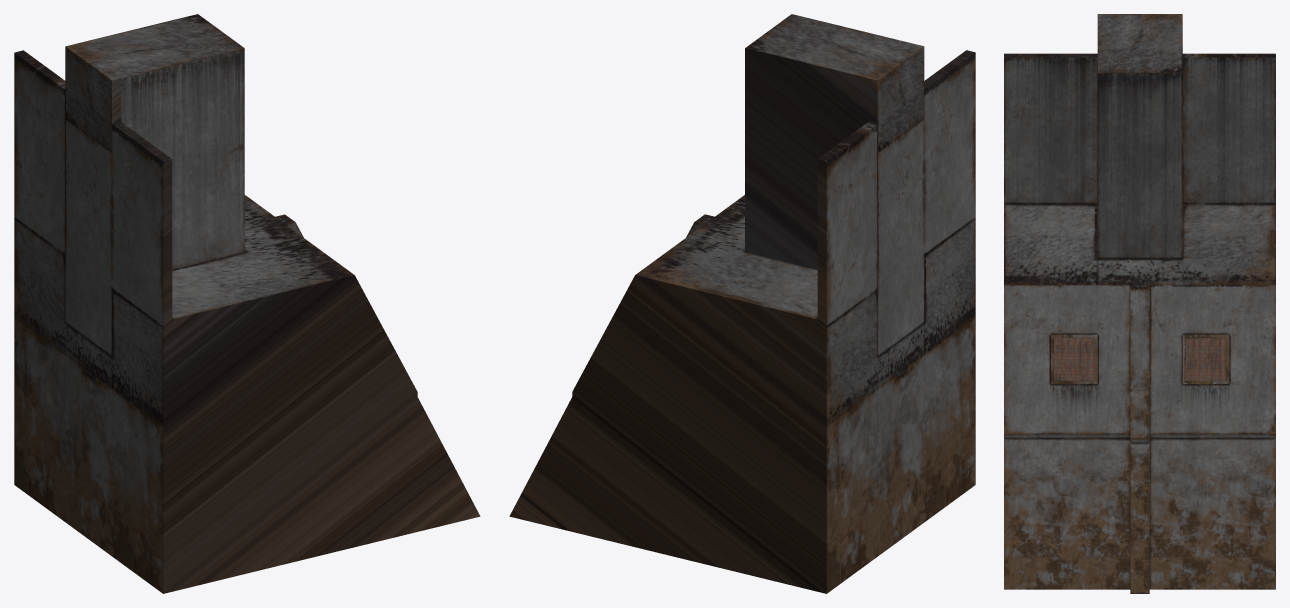
The model's file is left-wall.glb.
3 renders of one model, left to right at view 1: azimuth 30°, elevation 25°; view 2: azimuth 150°, elevation 25°; view 3: azimuth 270°, elevation 25°, orthographic. The views are drawn at different scales.
Parts seen in each view (by area): view 1: Cube.002_Cube.003; view 2: Cube.002_Cube.003; view 3: Cube.002_Cube.003.
Boxes of the visible parts, x1=… form: Cube.002_Cube.003: x1=14, y1=14, x2=480, y2=593; Cube.002_Cube.003: x1=509, y1=14, x2=975, y2=593; Cube.002_Cube.003: x1=1004, y1=14, x2=1275, y2=593.
Size of the model in its own units: 10.15 by 14.11 by 8.
Materials: 1 (1 with a texture image).
